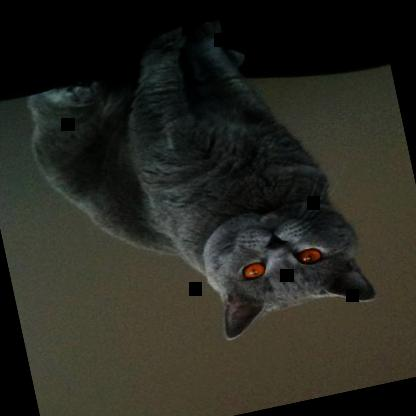cat: (11, 0, 376, 374)
